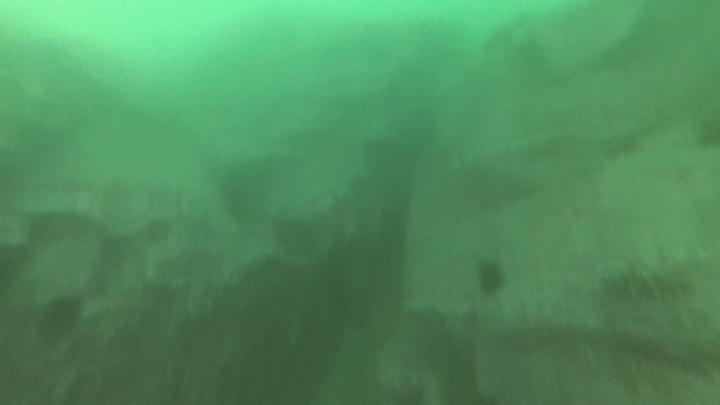echinus: (35, 294, 87, 346), (274, 215, 318, 260), (515, 38, 552, 78), (475, 257, 509, 298), (141, 216, 174, 250), (693, 116, 720, 151)
holothurian: (594, 247, 701, 301)
